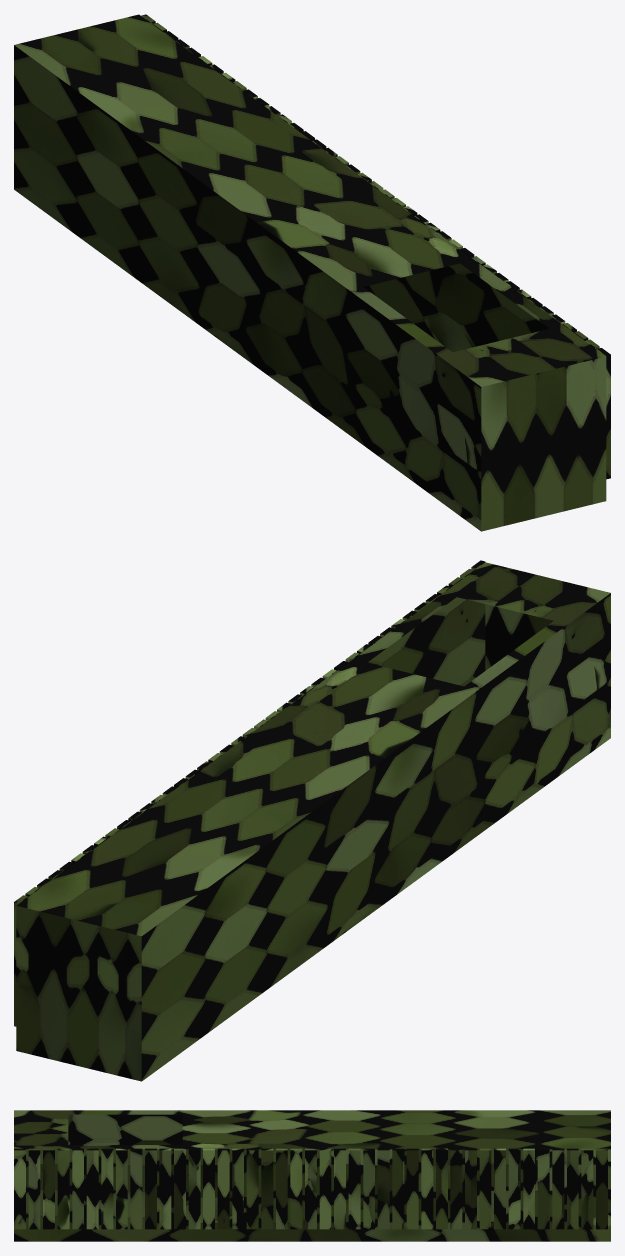
The model's file is modern_scandinavian_kitchen_island_5.obj.
The picture shows the model from 3 angles, top to bottom: view 1: azimuth 30°, elevation 25°; view 2: azimuth 150°, elevation 25°; view 3: azimuth 270°, elevation 25°; orthographic projection. The views are drawn at different scales.
Bounding box in the file's own units: 0.7365 × 0.7888 × 4.6.
